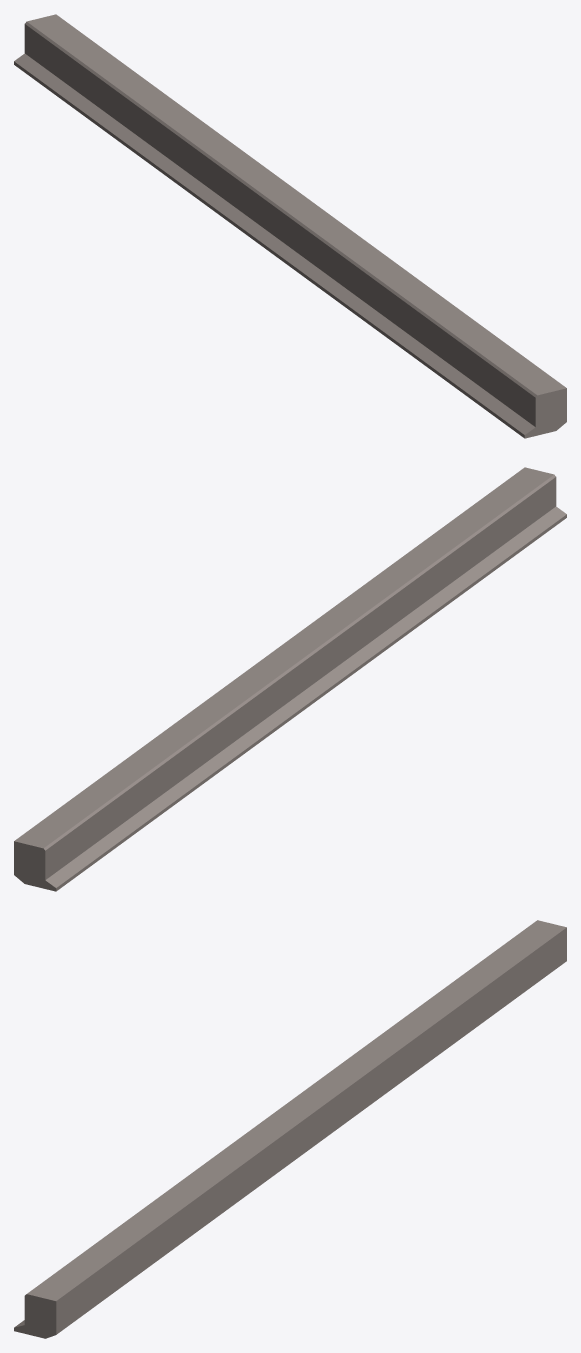
The model's file is Road_15.fbx.
The picture shows the model from 3 angles, top to bottom: view 1: azimuth 30°, elevation 25°; view 2: azimuth 150°, elevation 25°; view 3: azimuth 330°, elevation 25°; orthographic projection.
Visible parts, largest first — view 1: Road_15; view 2: Road_15; view 3: Road_15.
Part boxes in pixels (x1,y1,x2,y2): Road_15: [14, 14, 566, 438]; Road_15: [14, 467, 566, 891]; Road_15: [14, 920, 566, 1338].
Bounding box in the file's own units: 0.5719 × 0.5208 × 12.
